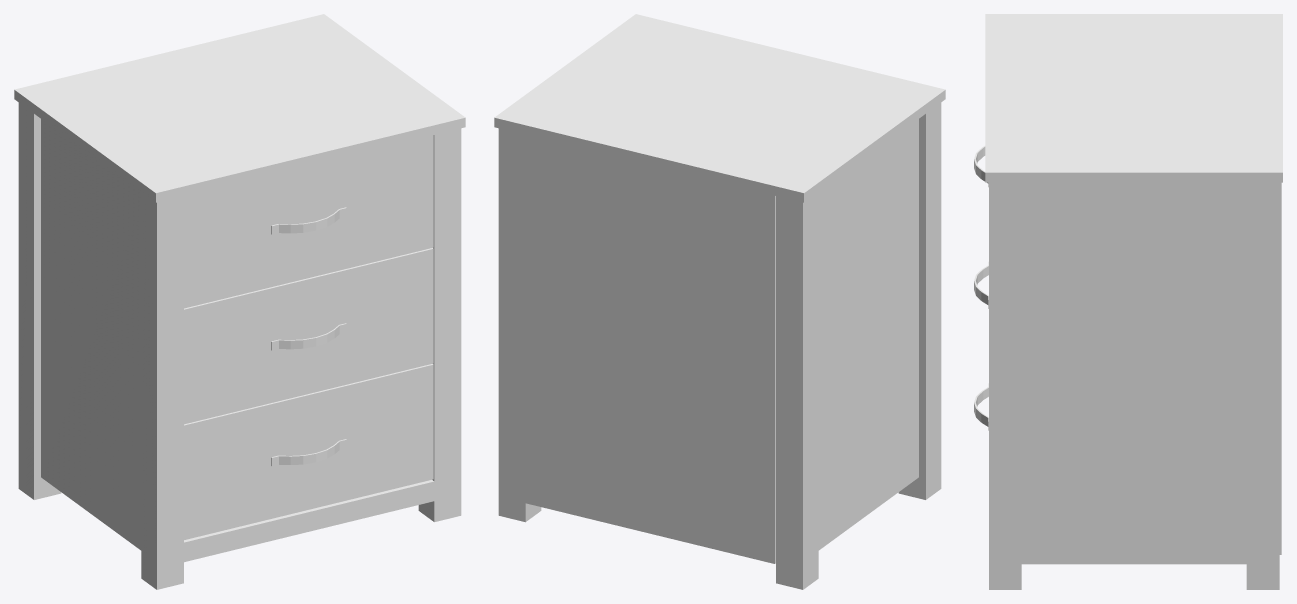
File: Prop_Nightstand_02.glb
The picture shows the model from 3 angles, left to right: view 1: azimuth 30°, elevation 25°; view 2: azimuth 150°, elevation 25°; view 3: azimuth 270°, elevation 25°; orthographic projection. The views are drawn at different scales.
Visible parts, largest first — view 1: Prop_Nightstand_02, Prop_Nightstand_Bottom_02, Prop_Nightstand_Middle_02, Prop_Nightstand_Top_02; view 2: Prop_Nightstand_02; view 3: Prop_Nightstand_02.
Part boxes in pixels (bbox=[...]): Prop_Nightstand_02: bbox=[14, 14, 465, 589]; Prop_Nightstand_Bottom_02: bbox=[184, 364, 433, 539]; Prop_Nightstand_Middle_02: bbox=[184, 248, 433, 424]; Prop_Nightstand_Top_02: bbox=[184, 135, 433, 308]; Prop_Nightstand_02: bbox=[494, 14, 945, 589]; Prop_Nightstand_02: bbox=[985, 14, 1282, 589].
Bounding box in the file's own units: 0.6096 × 0.7493 × 0.5011.
Materials: 1 (1 with a texture image).
